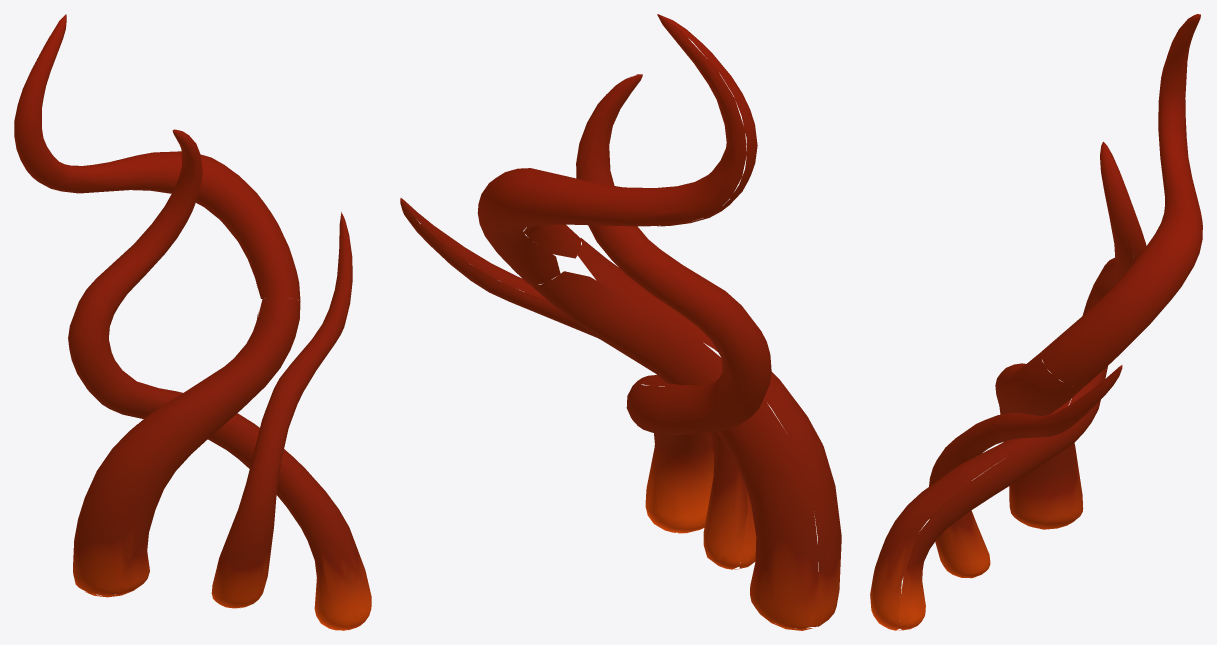
The model's file is tb_tentacle_c.glb.
3 renders of one model, left to right at view 1: azimuth 30°, elevation 25°; view 2: azimuth 150°, elevation 25°; view 3: azimuth 270°, elevation 25°, orthographic. The views are drawn at different scales.
Parts seen in each view (by area): view 1: geometry_0; view 2: geometry_0; view 3: geometry_0.
Part boxes in pixels (bbox=[...]): geometry_0: bbox=[14, 14, 371, 630]; geometry_0: bbox=[400, 14, 841, 630]; geometry_0: bbox=[870, 14, 1202, 630].
Size of the model in its own units: 25.69 by 43.85 by 24.09.
